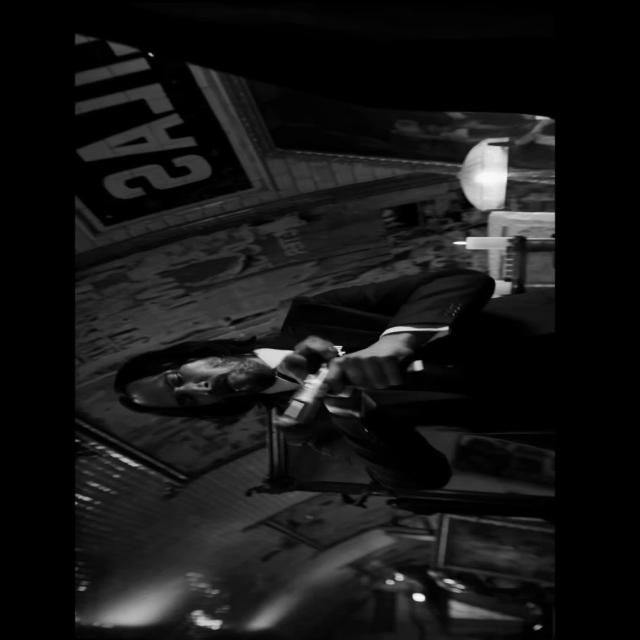weapons: (268, 338, 432, 437)
